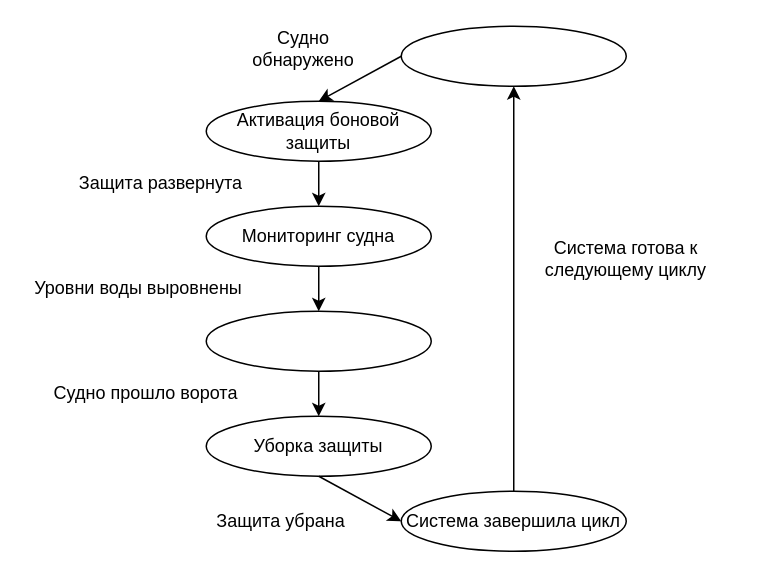
This 771x578 diagram has some shape labels left out. Each missing label, with the centre of its shape:
"Ожидание судна" belongs at [513,55].
"Открытие ворот" belongs at [318,340].
